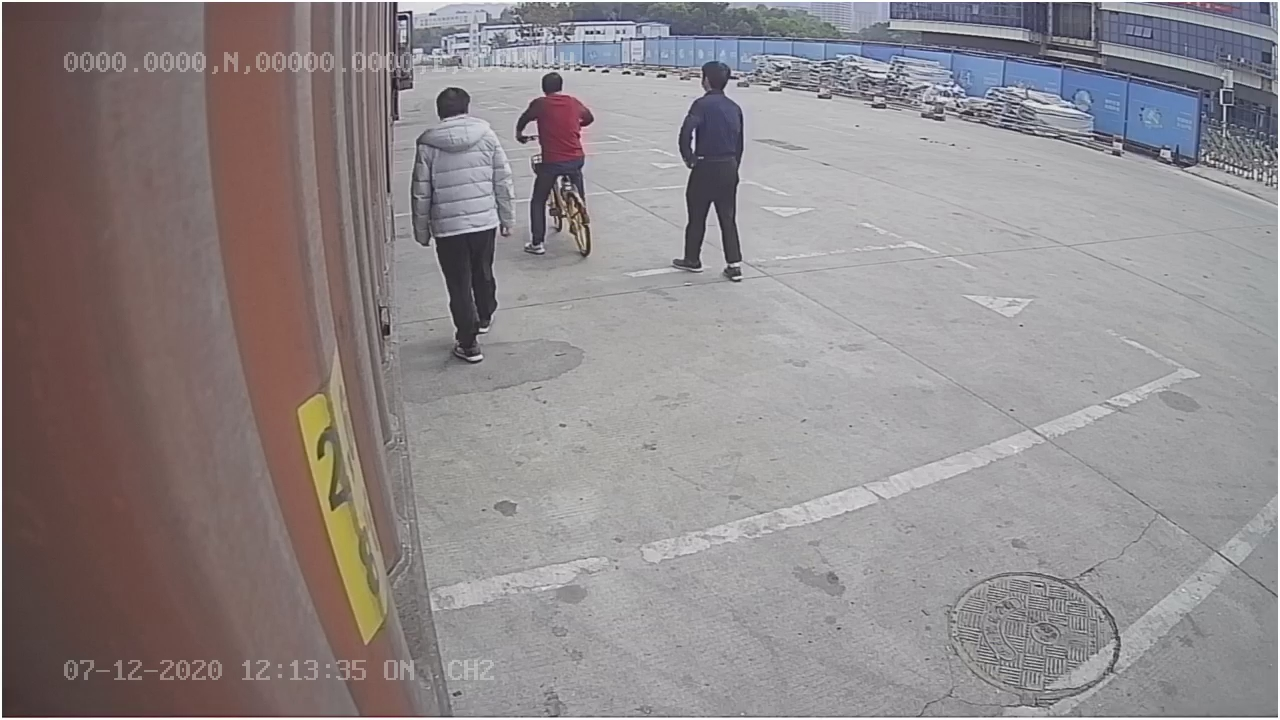person: (408, 85, 519, 362), (670, 57, 752, 285)
